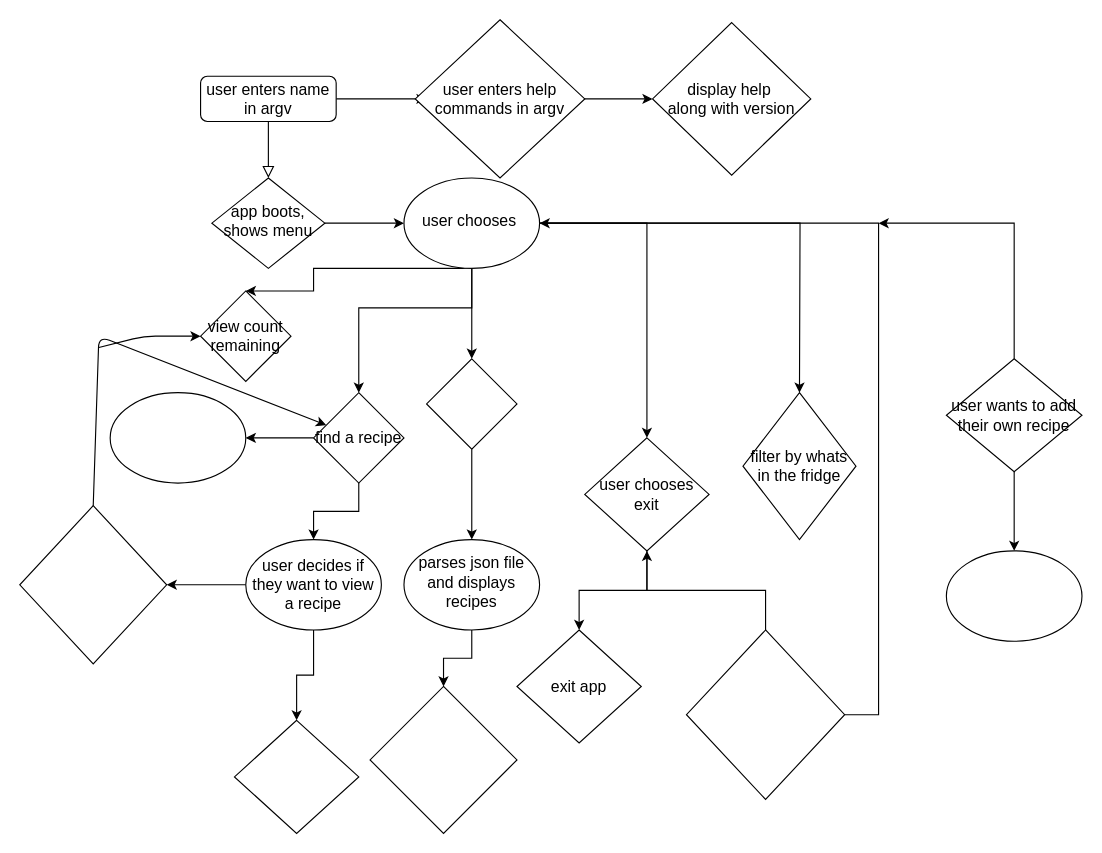
The diagram is 1102 pixels wide and 853 high, and some of its shapes have lost their labels. The centre of each missing label's shape, as x and y in pixels:
display saved recipes: point 471,403
optioins for just title or full recipe as well: point 177,437
they dont like it they skip and find new recipe: point 93,584
they like it they save it: point 296,776
user selects the recipe they want: point 443,759
user writes own recipe then saves: point 1013,595
was a mis click re run menu choice: point 765,714
